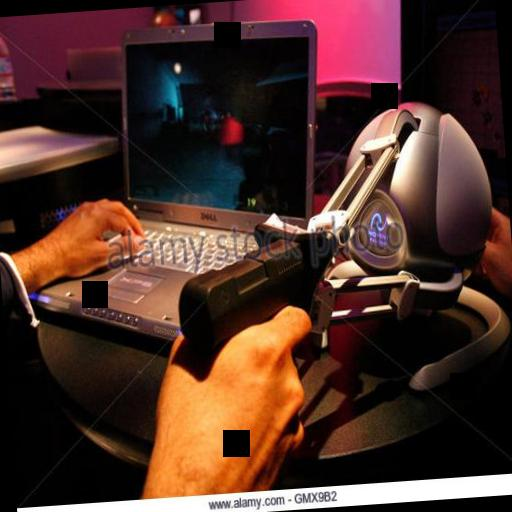Handgun: (169, 204, 334, 396)
